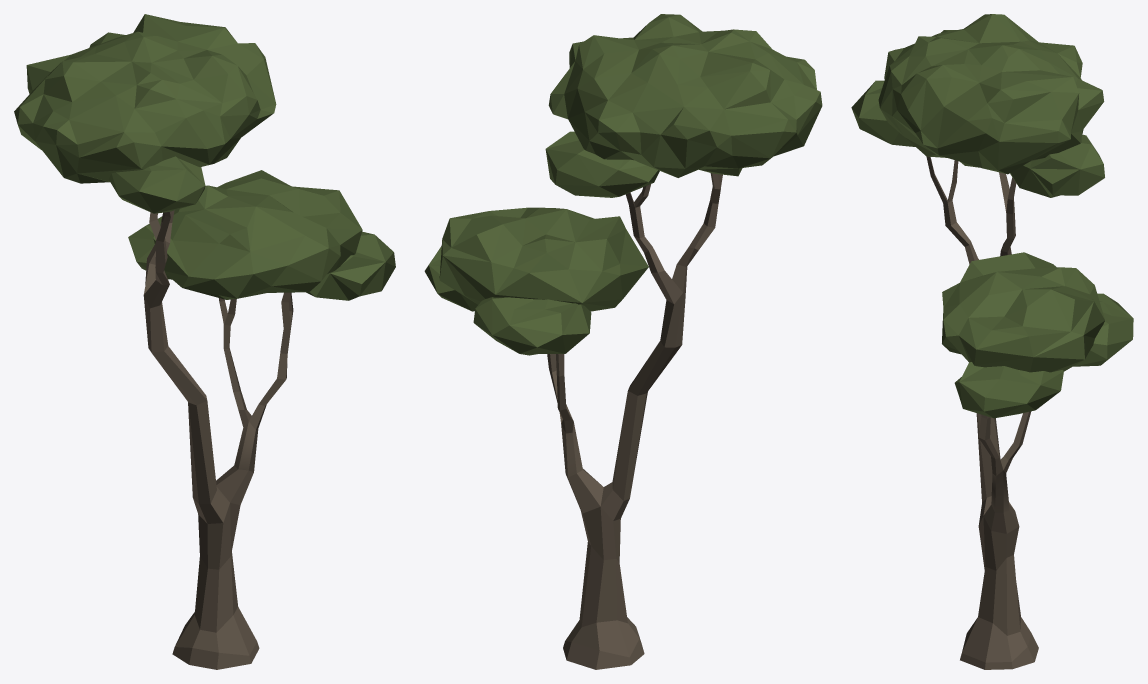
File: Tree_102.fbx
The picture shows the model from 3 angles, left to right: view 1: azimuth 30°, elevation 25°; view 2: azimuth 150°, elevation 25°; view 3: azimuth 270°, elevation 25°; orthographic projection. The views are drawn at different scales.
Parts seen in each view (by area): view 1: Tree_102; view 2: Tree_102; view 3: Tree_102.
Boxes of the visible parts, x1=… form: Tree_102: x1=14, y1=14, x2=395, y2=669; Tree_102: x1=424, y1=14, x2=822, y2=669; Tree_102: x1=851, y1=14, x2=1133, y2=669.
Size of the model in its own units: 0.4729 by 0.774 by 0.3429.
Materials: 1 (1 with a texture image).
